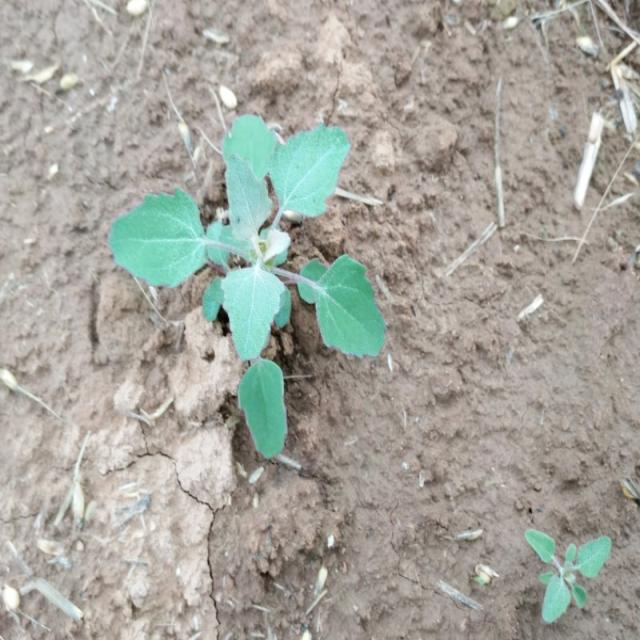goosefoots: (107, 116, 405, 447)
